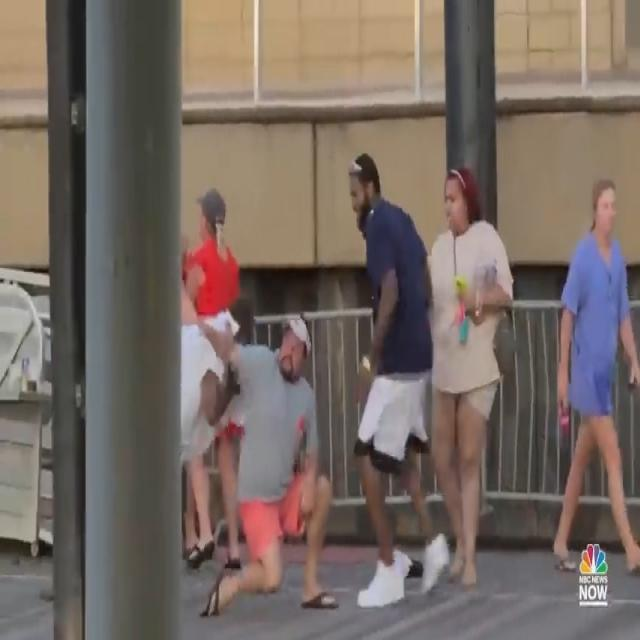fight: (182, 286, 341, 623)
non-fight: (344, 127, 640, 616)
